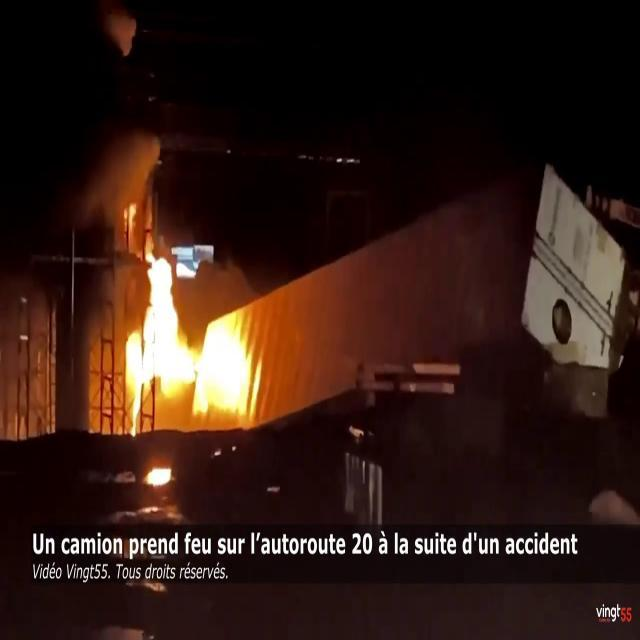Fire: (114, 233, 264, 420)
